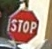stop: (4, 6, 39, 44)
